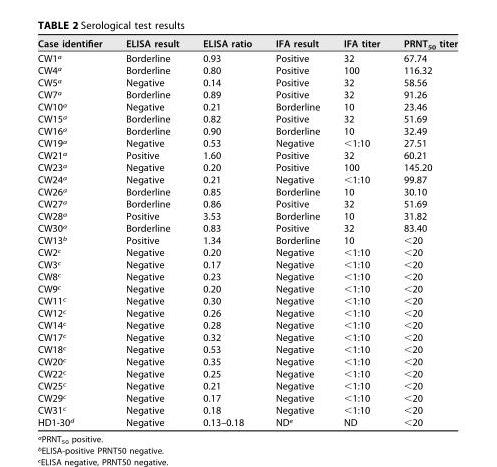table: (37, 37, 457, 427)
table column: (113, 37, 190, 427), (37, 37, 113, 427), (190, 37, 263, 427), (263, 37, 331, 427), (391, 37, 457, 427), (331, 37, 391, 427)
table column header: (37, 37, 457, 50)
table row: (37, 37, 457, 50), (37, 50, 457, 63), (37, 75, 457, 88), (37, 172, 457, 185), (37, 257, 457, 270), (37, 354, 457, 367), (37, 63, 457, 75), (37, 88, 457, 100), (37, 100, 457, 112), (37, 112, 457, 124), (37, 124, 457, 136), (37, 136, 457, 148), (37, 148, 457, 160), (37, 160, 457, 172), (37, 185, 457, 197), (37, 197, 457, 209), (37, 209, 457, 221), (37, 221, 457, 233), (37, 233, 457, 245), (37, 245, 457, 257), (37, 270, 457, 282), (37, 282, 457, 294), (37, 294, 457, 306), (37, 306, 457, 318), (37, 318, 457, 330), (37, 330, 457, 342), (37, 342, 457, 354), (37, 367, 457, 379), (37, 379, 457, 391), (37, 391, 457, 403), (37, 403, 457, 415), (37, 415, 457, 427)
